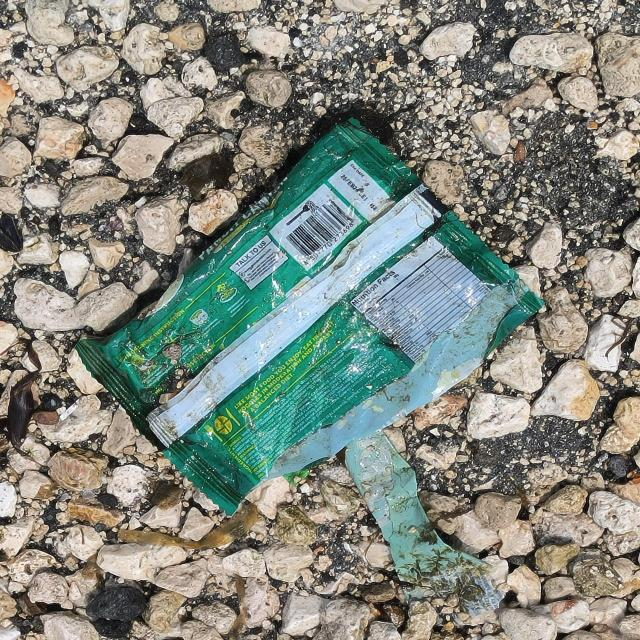plastic_waste: (74, 116, 551, 519)
